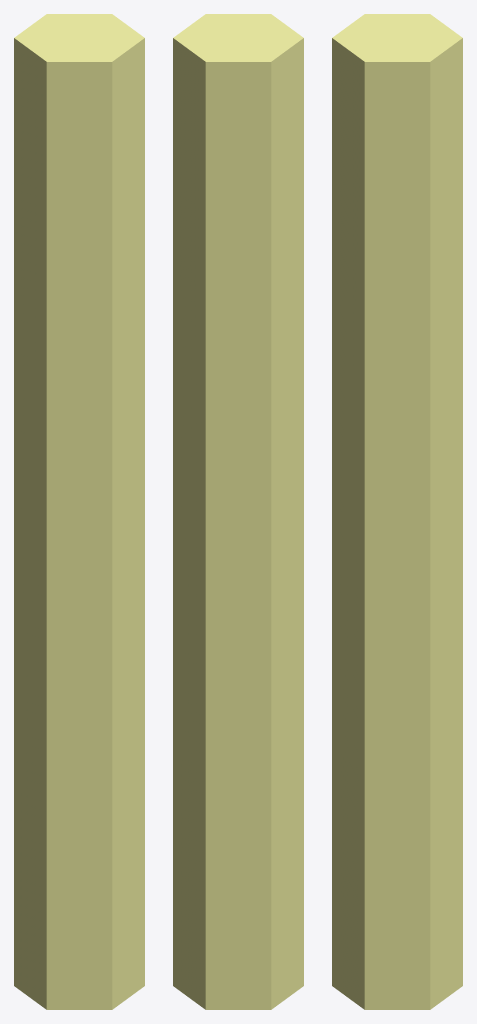
Rendered from CorrectedHexMesh.obj.
3 views of the same model, side by side, from view 1: azimuth 90°, elevation 25°; view 2: azimuth 210°, elevation 25°; view 3: azimuth 270°, elevation 25° (orthographic).
Visible parts, largest first — view 1: CorrectedHexMesh; view 2: CorrectedHexMesh; view 3: CorrectedHexMesh.
Part boxes in pixels (<box>): CorrectedHexMesh: <box>14,14,144,1009</box>; CorrectedHexMesh: <box>173,14,303,1009</box>; CorrectedHexMesh: <box>332,14,462,1009</box>.
Bounding box in the file's own units: 1.73 × 16 × 2.
